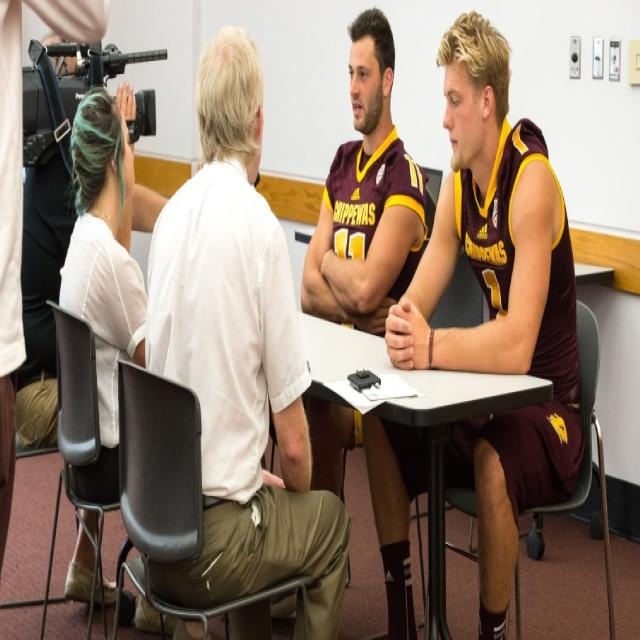body: (354, 6, 588, 638), (139, 27, 358, 639), (0, 0, 121, 628), (6, 36, 184, 457), (56, 86, 180, 636), (299, 5, 430, 501)
